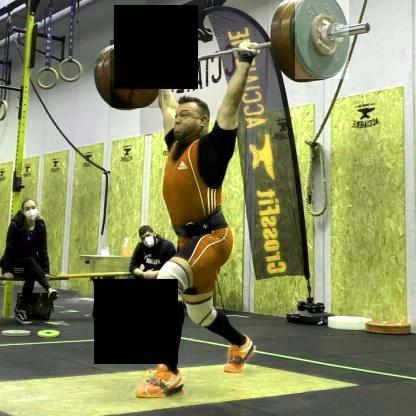barbell: (294, 1, 347, 80), (108, 41, 160, 108)
